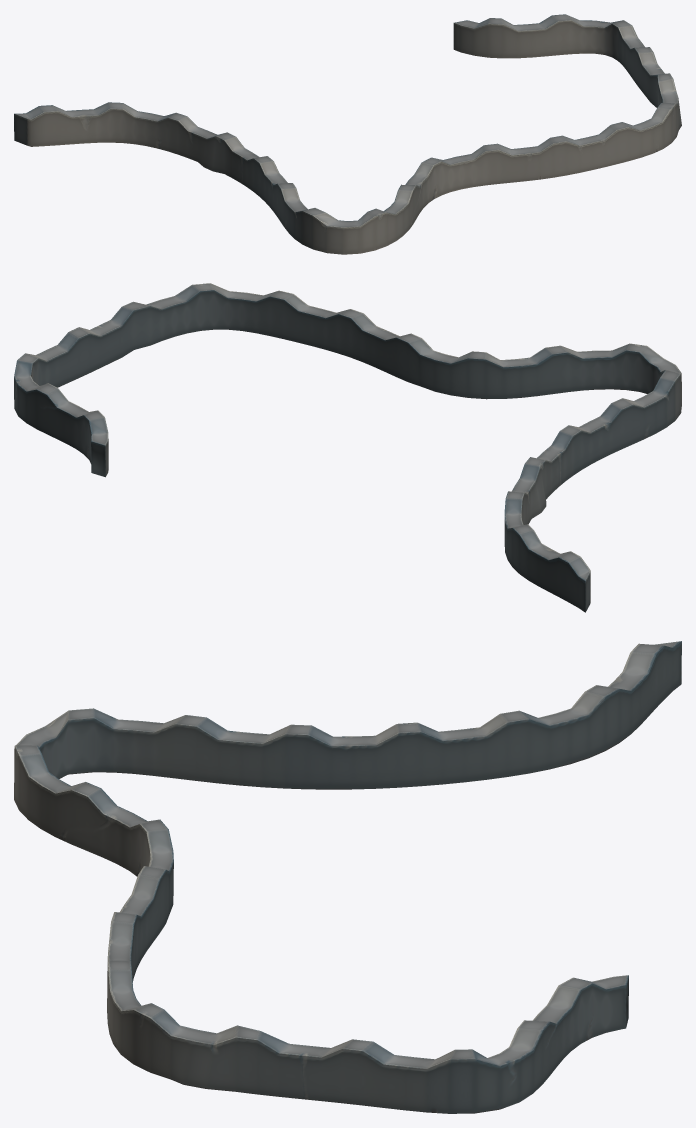
Rendered from Zone1_Path_Wall_Textured2.fbx.
3 renders of one model, top to bottom at view 1: azimuth 30°, elevation 25°; view 2: azimuth 150°, elevation 25°; view 3: azimuth 270°, elevation 25°, orthographic. The views are drawn at different scales.
Parts seen in each view (by area): view 1: Zone1_Small_Wall_LOW; view 2: Zone1_Small_Wall_LOW; view 3: Zone1_Small_Wall_LOW.
Boxes of the visible parts, left/top/right/bottom form: Zone1_Small_Wall_LOW: left=14, top=14, right=681, bottom=254; Zone1_Small_Wall_LOW: left=14, top=283, right=681, bottom=612; Zone1_Small_Wall_LOW: left=14, top=641, right=681, bottom=1113.
Size of the model in its own units: 2555 by 169 by 1676.
1 material, 1 textured.
